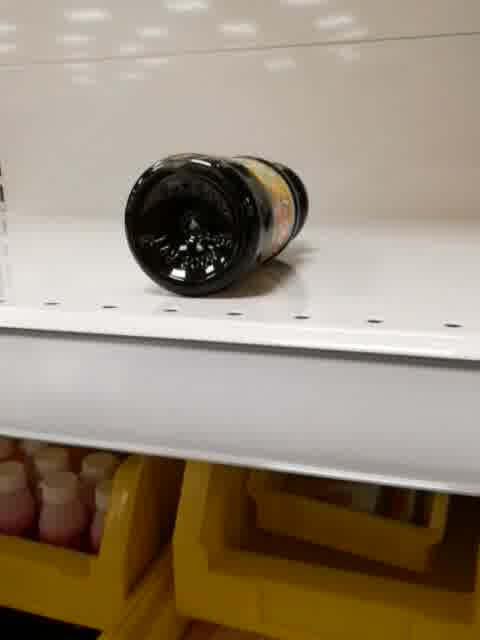cookingoil: (120, 151, 314, 301)
